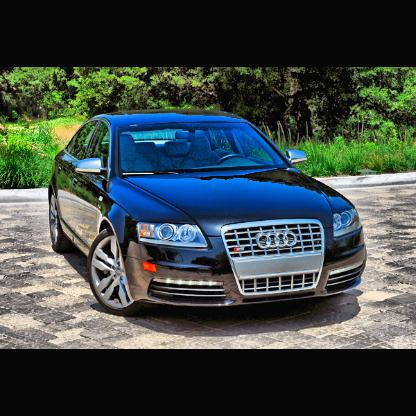Audi S6 Sedan 2011: (36, 104, 379, 328)
